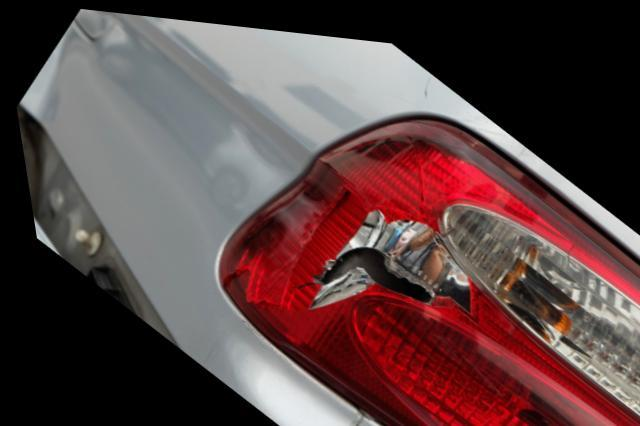lamp broken: (207, 106, 640, 426)
